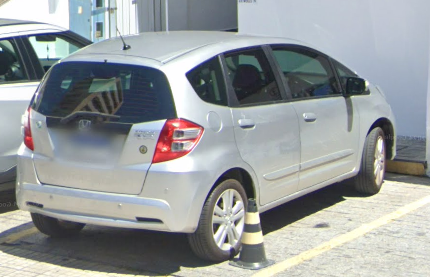car: (16, 31, 396, 261)
